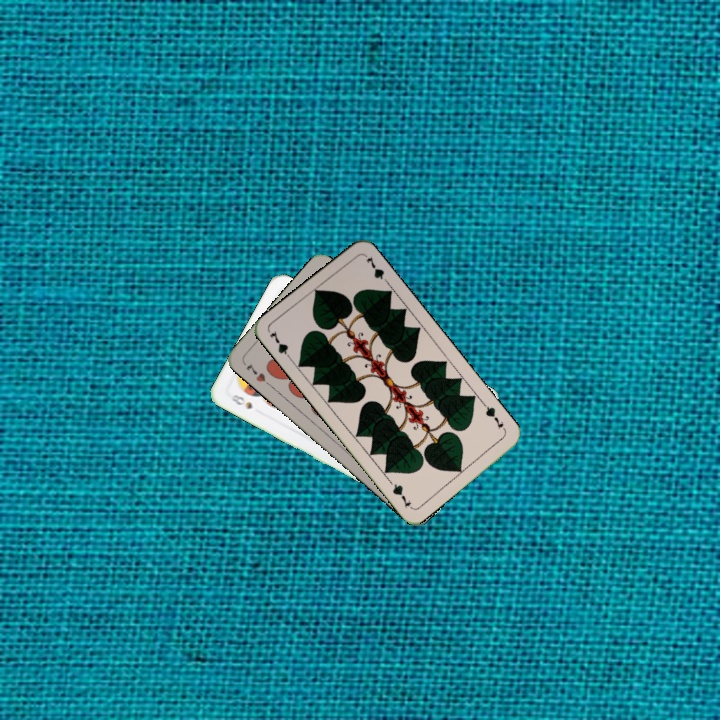G7: (265, 327, 295, 364), (479, 399, 509, 434)
H7: (242, 359, 274, 389)
S8: (227, 390, 255, 412)
